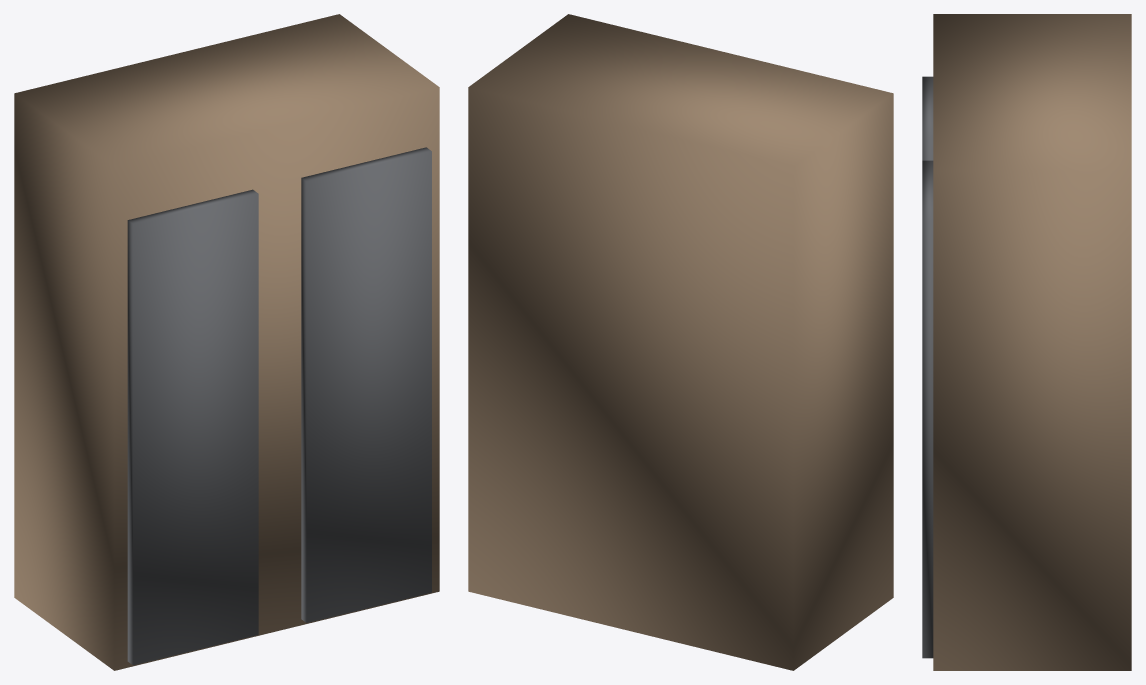
Rendered from confessional_booth.glb.
3 renders of one model, left to right at view 1: azimuth 30°, elevation 25°; view 2: azimuth 150°, elevation 25°; view 3: azimuth 270°, elevation 25°, orthographic.
Visible parts, largest first — view 1: world; view 2: world; view 3: world.
Boxes of the visible parts, box(x1,y1,x2,y2) form: world: box(14, 14, 439, 670); world: box(468, 14, 893, 670); world: box(922, 14, 1131, 670).
Size of the model in its own units: 1.35 by 2 by 0.76.
